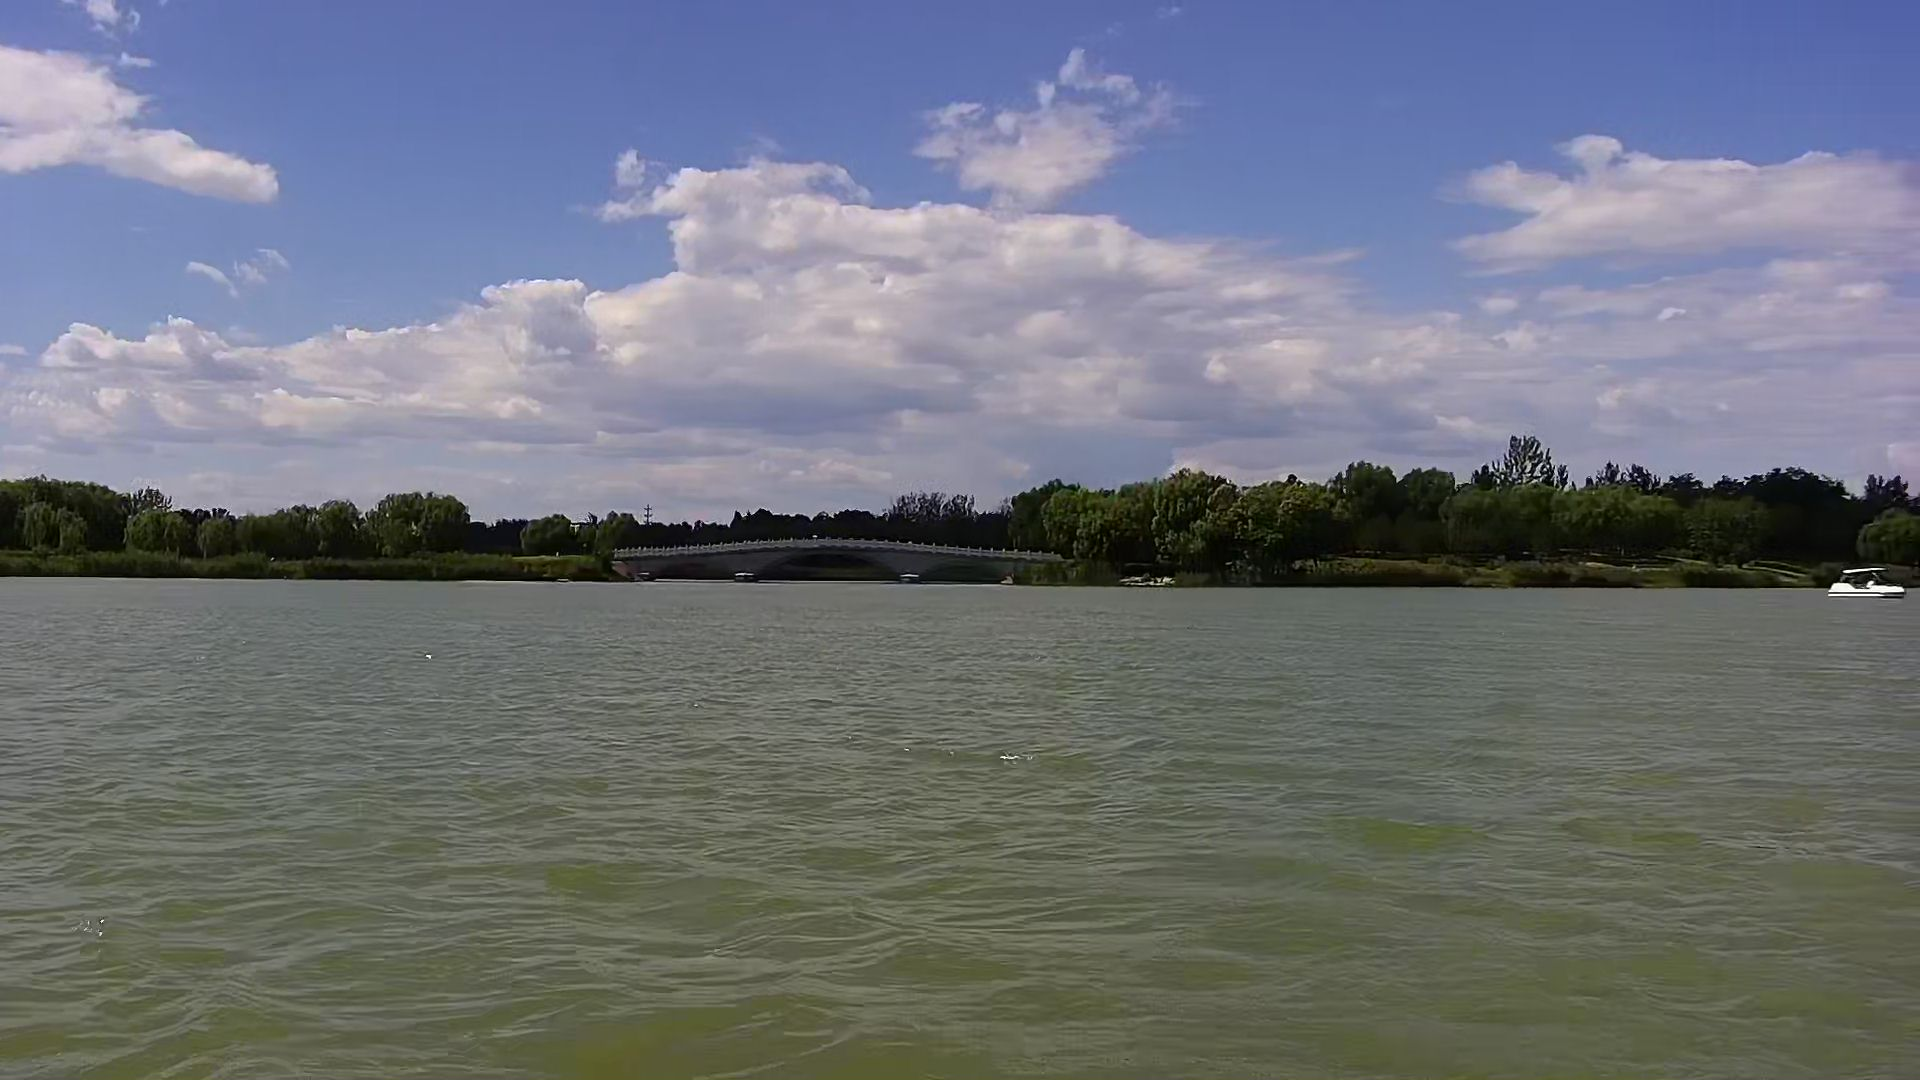boat: (1826, 562, 1909, 603)
bridge: (616, 542, 1072, 588)
